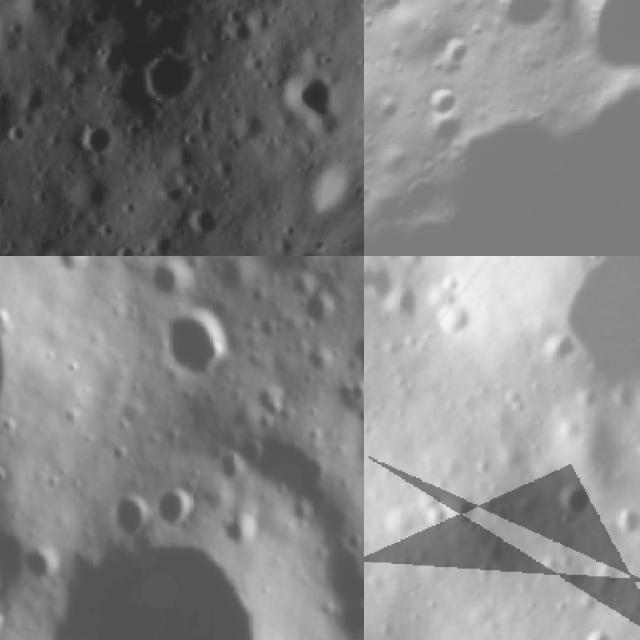crater: (364, 0, 640, 256), (0, 481, 294, 640), (527, 256, 640, 422), (526, 0, 640, 128), (127, 26, 210, 113), (463, 0, 566, 54), (273, 63, 349, 136), (152, 315, 235, 380), (418, 26, 480, 92), (428, 289, 490, 350), (97, 481, 153, 547), (410, 70, 468, 129), (543, 470, 600, 530), (298, 154, 344, 226), (68, 107, 120, 161), (532, 320, 584, 373), (149, 480, 203, 530), (599, 493, 640, 550), (148, 261, 198, 307), (364, 256, 403, 312), (182, 202, 225, 243), (296, 294, 340, 331), (217, 515, 260, 552), (329, 597, 364, 640), (301, 339, 338, 376), (571, 616, 622, 640), (349, 331, 364, 383)
